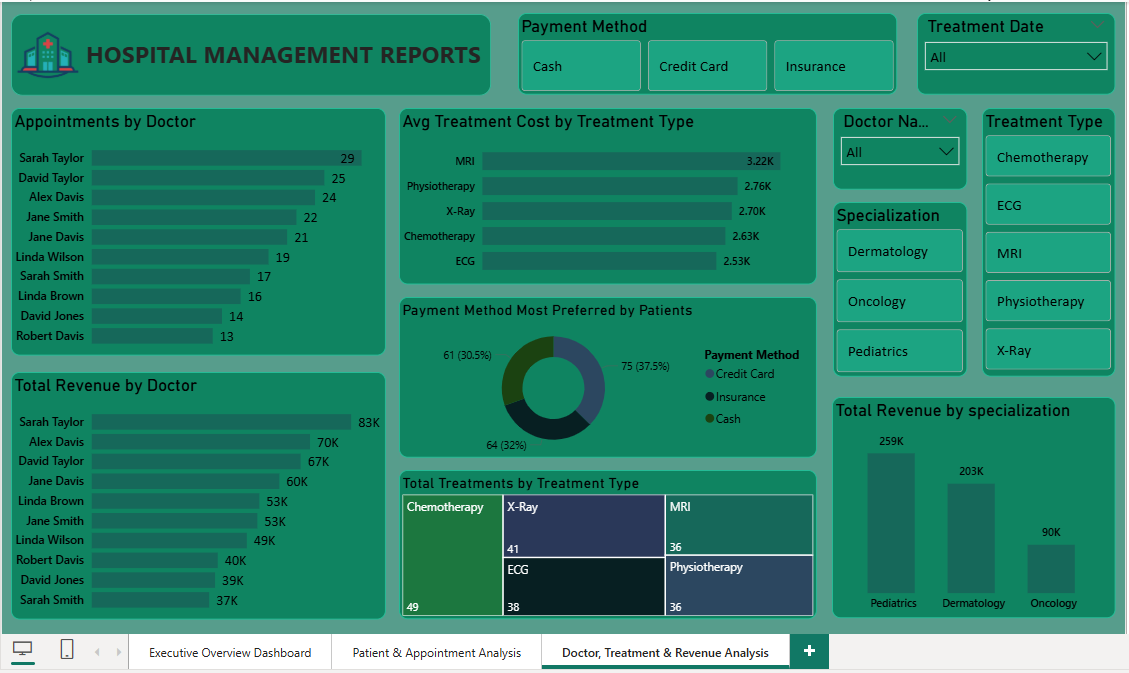

What the dashboard file says about the page in this screenshot:
{"tool":"powerbi","page":{"name":"Doctor, Treatment & Revenue Analysis","canvas":[1280,720],"ordinal":2},"visuals":[{"type":"shape","box":[10.6,13.3,546.9,93.1],"z":0,"group":"g1"},{"type":"barChart","title":"Appointments by Doctor","fields":{"Category":["Doctors.Full_Name"],"Y":["Measures_Table.Total Appointments"]},"box":[10.6,121,426.7,281.8],"z":0},{"type":"textbox","box":[84.5,35,473,49.7],"z":1000,"group":"g1"},{"type":"treemap","title":"Total Treatments by Treatment Type","fields":{"Group":["Treatments.treatment_type"],"Values":["Measures_Table.Total Treatments"]},"box":[451.9,533,475.8,170.1],"z":1000},{"type":"image","box":[10.6,22.2,84.1,75.2],"z":2000,"group":"g1"},{"type":"clusteredBarChart","title":"Avg Treatment Cost by Treatment Type","fields":{"Category":["Treatments.treatment_type"],"Y":["Measures_Table.Avg Treatment Cost"]},"box":[451.9,121,475.8,200.7],"z":2000},{"type":"barChart","fields":{"Category":["Doctors.Full_Name"],"Y":["Measures_Table.Total Revenue"]},"box":[10.6,421.3,426.7,281.8],"z":3000},{"type":"donutChart","title":"Payment Method Most Preferred by Patients","fields":{"Category":["Billing.payment_method"],"Y":["Measures_Table.Total Bill"]},"box":[451.9,335.6,475.8,183.4],"z":4000},{"type":"slicer","fields":{"Values":["Doctors.Full_Name"]},"box":[947.3,121.1,153,93.1],"z":5000},{"type":"advancedSlicerVisual","fields":{"Values":["Treatments.treatment_type"]},"box":[1116.8,121.1,151.7,306],"z":6000},{"type":"advancedSlicerVisual","fields":{"Values":["Billing.payment_method"]},"box":[587.7,12.7,432.2,93.1],"z":7000},{"type":"advancedSlicerVisual","fields":{"Values":["Doctors.specialization"]},"box":[947.3,228.2,153,198.9],"z":8000},{"type":"slicer","fields":{"Values":["Treatments.treatment_date"]},"box":[1042.9,12.7,225.7,93.1],"z":9000},{"type":"group","id":"g1","title":"Group 1","box":[10.6,13.3,547.6,93],"z":10000},{"type":"columnChart","fields":{"Y":["Measures_Table.Total Revenue"],"Category":["Doctors.specialization"]},"box":[946,450,322.5,252.4],"z":11000}]}

Visuals, with their boxes on the page's 1280x720 design canvas (x1, y1, x2, y2). These are canvas units, not pixel positions in the 1129x673 screenshot, which may show the page scaled, cropped or inside an application window:
shape: <box>11,13,558,106</box>
"Appointments by Doctor" barChart: <box>11,121,437,403</box>
textbox: <box>84,35,558,85</box>
"Total Treatments by Treatment Type" treemap: <box>452,533,928,703</box>
image: <box>11,22,95,97</box>
"Avg Treatment Cost by Treatment Type" clusteredBarChart: <box>452,121,928,322</box>
barChart - Doctors.Full_Name x Measures_Table.Total Revenue: <box>11,421,437,703</box>
"Payment Method Most Preferred by Patients" donutChart: <box>452,336,928,519</box>
slicer - Doctors.Full_Name: <box>947,121,1100,214</box>
advancedSlicerVisual - Treatments.treatment_type: <box>1117,121,1268,427</box>
advancedSlicerVisual - Billing.payment_method: <box>588,13,1020,106</box>
advancedSlicerVisual - Doctors.specialization: <box>947,228,1100,427</box>
slicer - Treatments.treatment_date: <box>1043,13,1269,106</box>
"Group 1" group: <box>11,13,558,106</box>
columnChart - Measures_Table.Total Revenue x Doctors.specialization: <box>946,450,1268,702</box>
